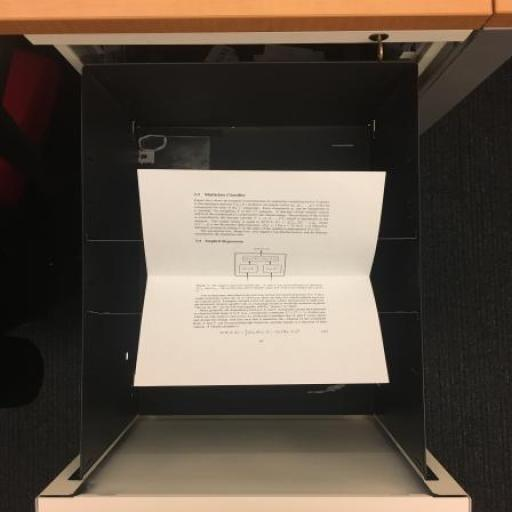paper: (93, 147, 443, 404)
